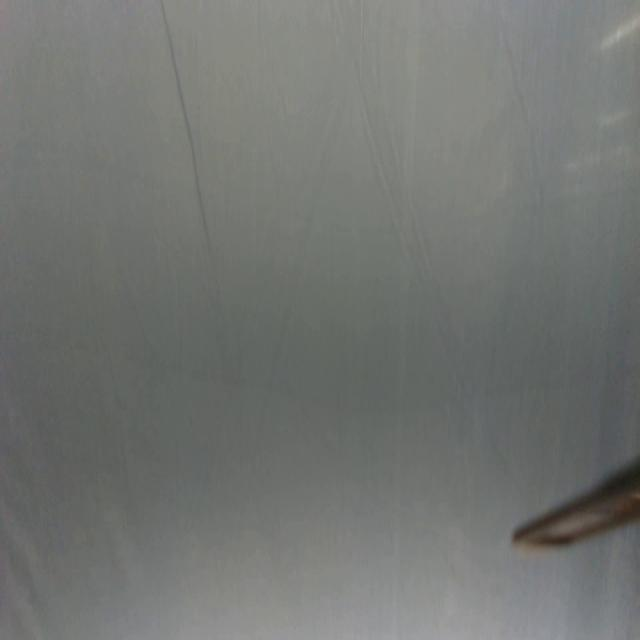crease: (387, 0, 422, 639), (158, 0, 214, 261)
